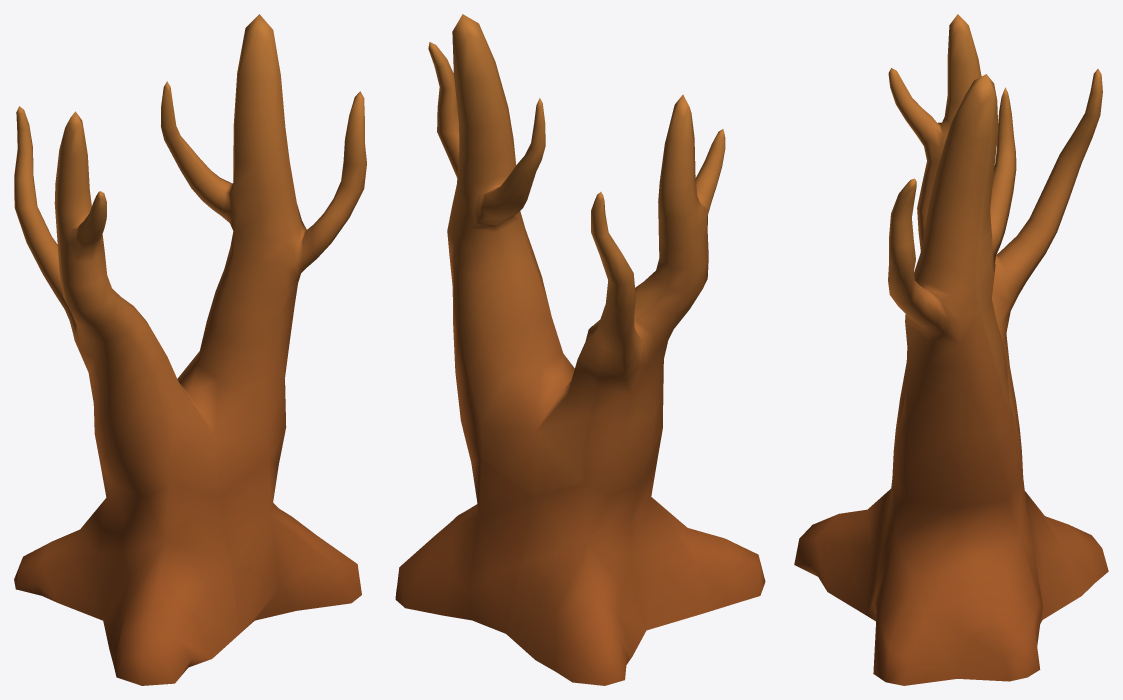
The model's file is ArabianTree_L_03.fbx.
3 views of the same model, side by side, from view 1: azimuth 30°, elevation 25°; view 2: azimuth 150°, elevation 25°; view 3: azimuth 270°, elevation 25° (orthographic). The views are drawn at different scales.
Parts seen in each view (by area): view 1: ArabianTree_L_03; view 2: ArabianTree_L_03; view 3: ArabianTree_L_03.
Part boxes in pixels (x1,y1,x2,y2): ArabianTree_L_03: (14, 14, 366, 685); ArabianTree_L_03: (395, 14, 765, 685); ArabianTree_L_03: (794, 14, 1108, 685).
Size of the model in its own units: 251 by 475 by 233.
